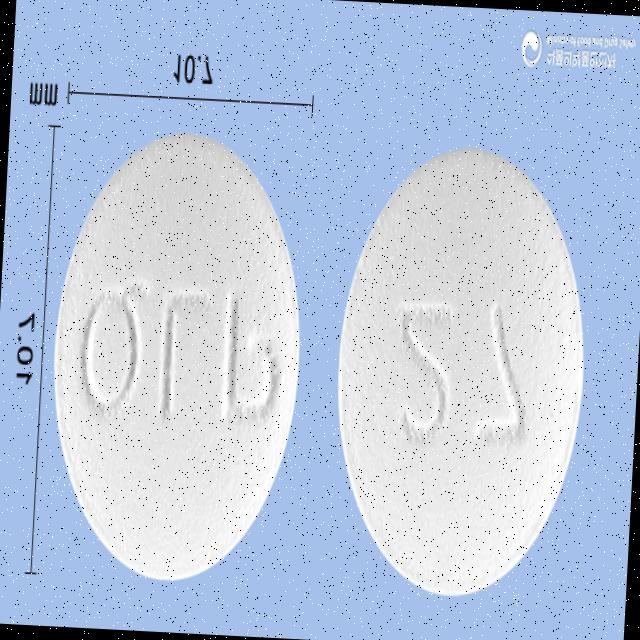Cyrus: (41, 126, 312, 594), (326, 143, 598, 608)
